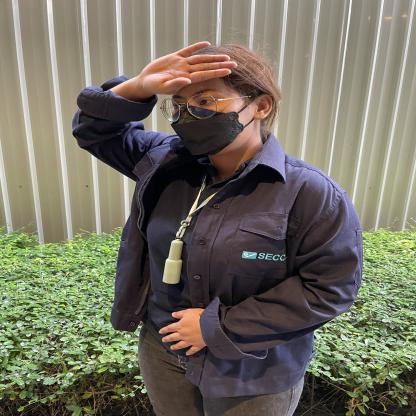Sick: (35, 35, 277, 128)
